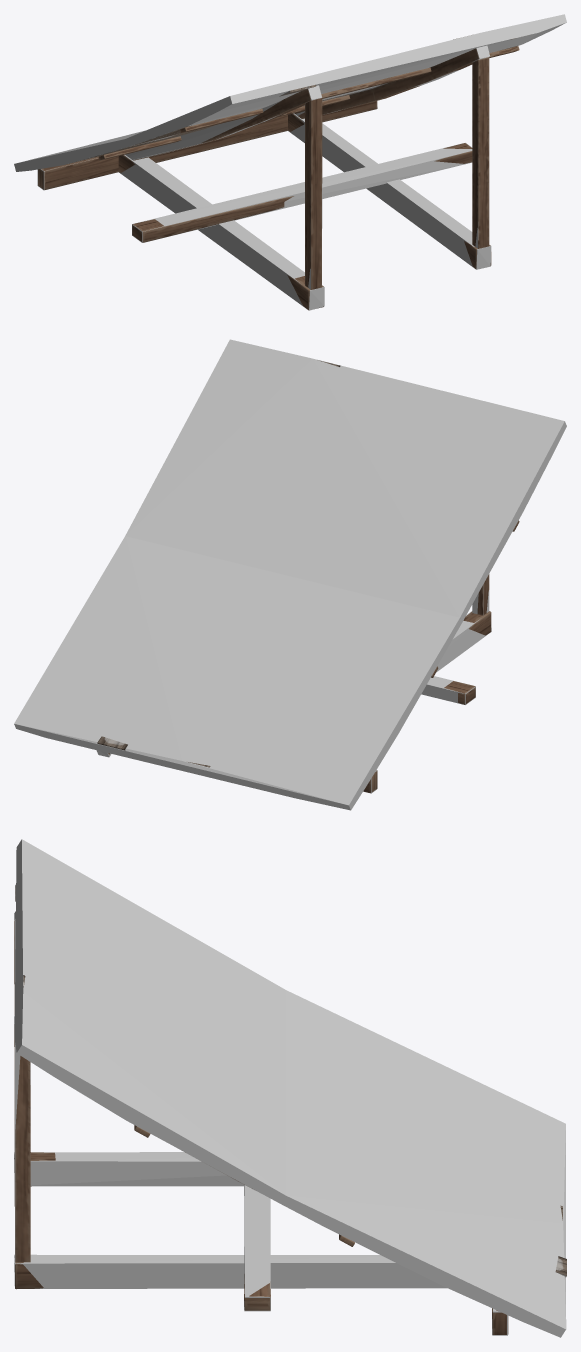
Rendered from SM_Hangar01RM_2.fbx.
3 renders of one model, top to bottom at view 1: azimuth 30°, elevation 25°; view 2: azimuth 150°, elevation 25°; view 3: azimuth 270°, elevation 25°, orthographic. The views are drawn at different scales.
Visible parts, largest first — view 1: SM_Hangar01RM_2_ConvexHulls, SM_Hangar01RM_2; view 2: SM_Hangar01RM_2_ConvexHulls, SM_Hangar01RM_2; view 3: SM_Hangar01RM_2_ConvexHulls, SM_Hangar01RM_2.
Part boxes in pixels (x1,y1,x2,y2): SM_Hangar01RM_2_ConvexHulls: (14,14,566,310); SM_Hangar01RM_2: (38,35,528,310); SM_Hangar01RM_2_ConvexHulls: (14,339,566,810); SM_Hangar01RM_2: (97,360,519,793); SM_Hangar01RM_2_ConvexHulls: (14,839,566,1337); SM_Hangar01RM_2: (14,885,566,1334).
Bounding box in the file's own units: 452 × 513 × 316.
Materials: 4 (3 with a texture image).
